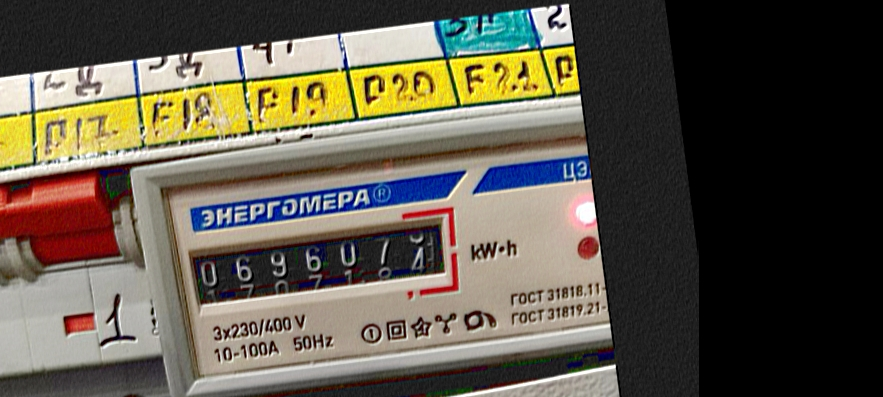0: (196, 256, 221, 289), (337, 237, 359, 269)
4: (405, 244, 428, 275)
6: (301, 242, 325, 275), (232, 252, 254, 283)
7: (371, 232, 393, 265)
9: (267, 247, 290, 279)
screen: (175, 199, 468, 327)
